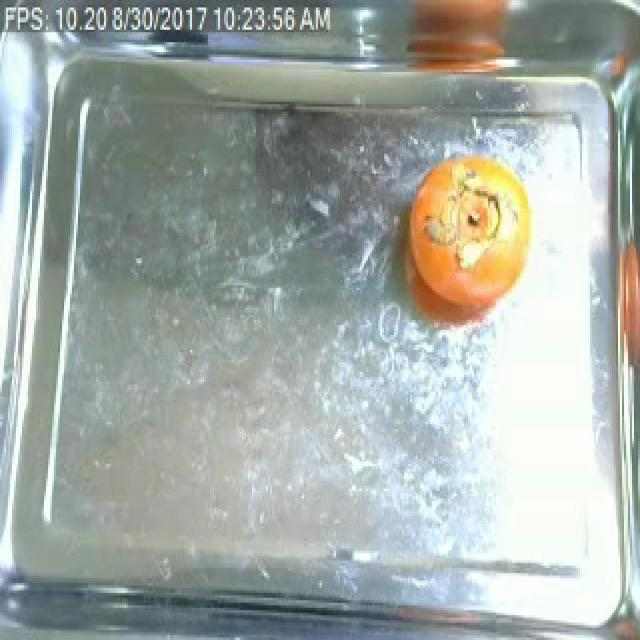Fruit: (400, 149, 540, 327), (402, 0, 520, 79), (606, 228, 640, 390)
